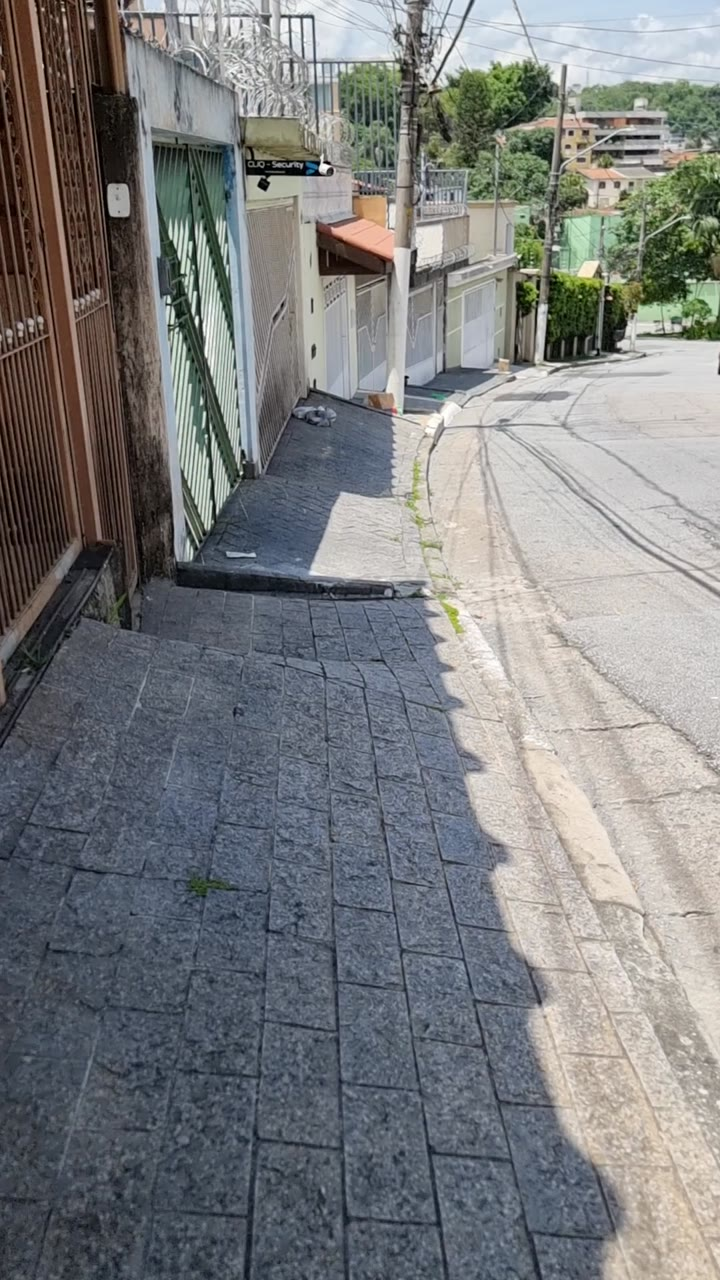desnivel: (158, 525, 432, 614)
obstaculo: (389, 0, 446, 397)
